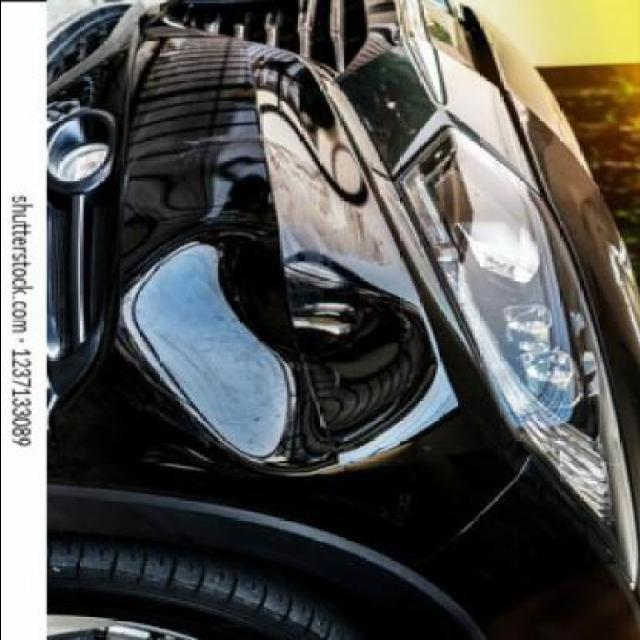front-bumper-dent: (40, 62, 463, 528)
